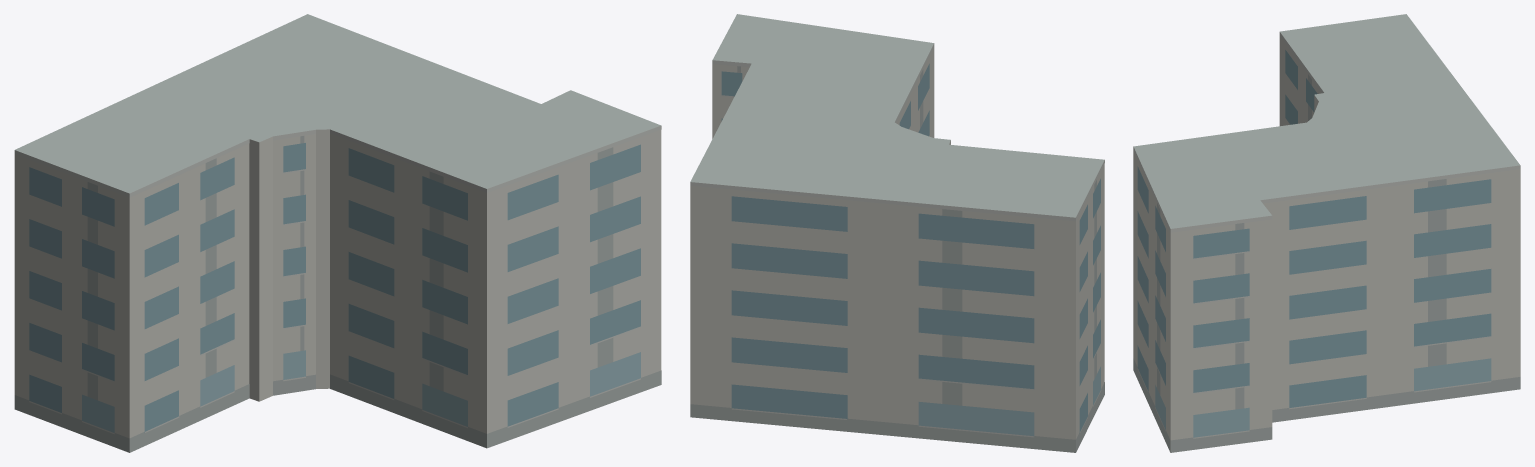
The model's file is survey-upis-32641303.glb.
3 renders of one model, left to right at view 1: azimuth 30°, elevation 25°; view 2: azimuth 150°, elevation 25°; view 3: azimuth 270°, elevation 25°, orthographic. The views are drawn at different scales.
Visible parts, largest first — view 1: survey-upis-32641303.tmp; view 2: survey-upis-32641303.tmp; view 3: survey-upis-32641303.tmp.
Boxes of the visible parts, x1=… form: survey-upis-32641303.tmp: x1=14, y1=14, x2=661, y2=452; survey-upis-32641303.tmp: x1=690, y1=14, x2=1104, y2=452; survey-upis-32641303.tmp: x1=1133, y1=14, x2=1520, y2=452.
Size of the model in its own units: 31.4 by 15.25 by 23.9.
